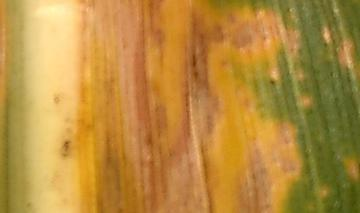tarspot: (267, 76, 279, 90), (322, 40, 330, 50)
